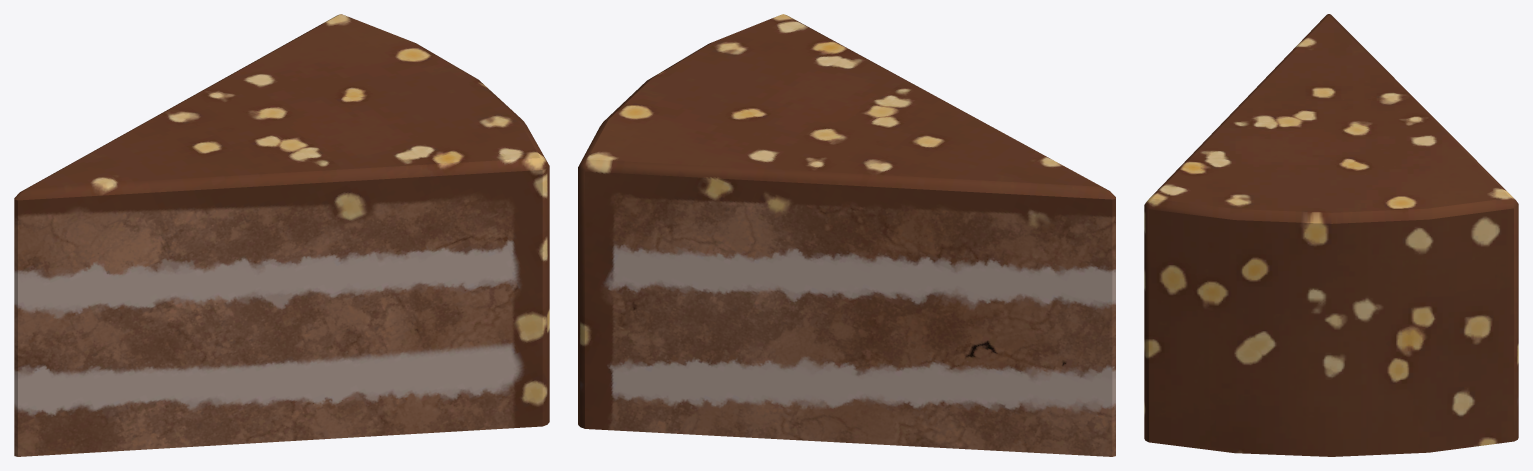
File: SM_Bakery_Cake_Piece.gltf
3 views of the same model, side by side, from view 1: azimuth 30°, elevation 25°; view 2: azimuth 150°, elevation 25°; view 3: azimuth 270°, elevation 25° (orthographic). The views are drawn at different scales.
Visible parts, largest first — view 1: SM_Bakery_Cake_Piece; view 2: SM_Bakery_Cake_Piece; view 3: SM_Bakery_Cake_Piece.
Boxes of the visible parts, bbox=[...] form: SM_Bakery_Cake_Piece: bbox=[14, 14, 549, 456]; SM_Bakery_Cake_Piece: bbox=[578, 14, 1115, 456]; SM_Bakery_Cake_Piece: bbox=[1144, 14, 1518, 456].
Size of the model in its own units: 0.1483 by 0.08 by 0.1129.
1 material, 1 textured.
